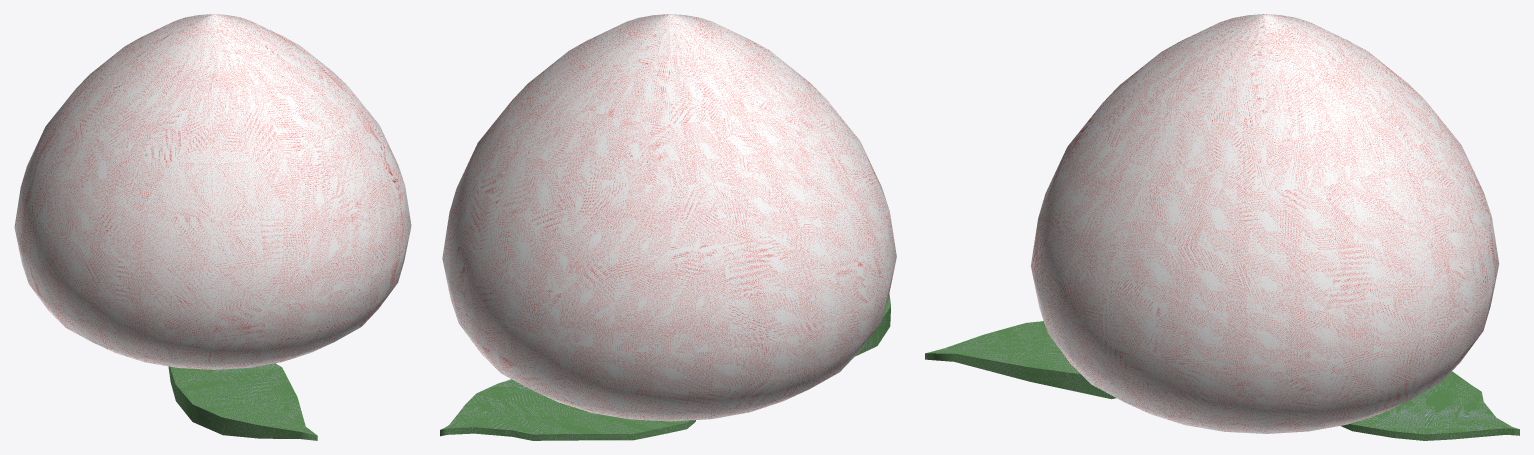
Rendered from peach.fbx.
The picture shows the model from 3 angles, left to right: view 1: azimuth 30°, elevation 25°; view 2: azimuth 150°, elevation 25°; view 3: azimuth 270°, elevation 25°; orthographic projection. The views are drawn at different scales.
Visible parts, largest first — view 1: group_0, ID29; view 2: group_0, ID13, ID29; view 3: group_0, ID13, ID29.
Boxes of the visible parts, x1,y1,x2,y2 form: group_0: [14, 14, 411, 369]; ID29: [168, 363, 317, 440]; group_0: [442, 14, 896, 421]; ID13: [440, 379, 695, 440]; ID29: [855, 294, 890, 356]; group_0: [1031, 14, 1499, 433]; ID13: [1341, 371, 1519, 440]; ID29: [925, 321, 1116, 399].
Bounding box in the file's own units: 1059 × 1344 × 954.
